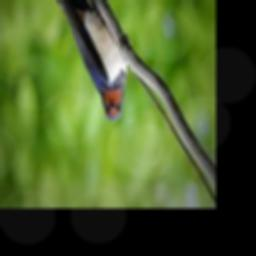Swallow: (20, 0, 128, 122)
